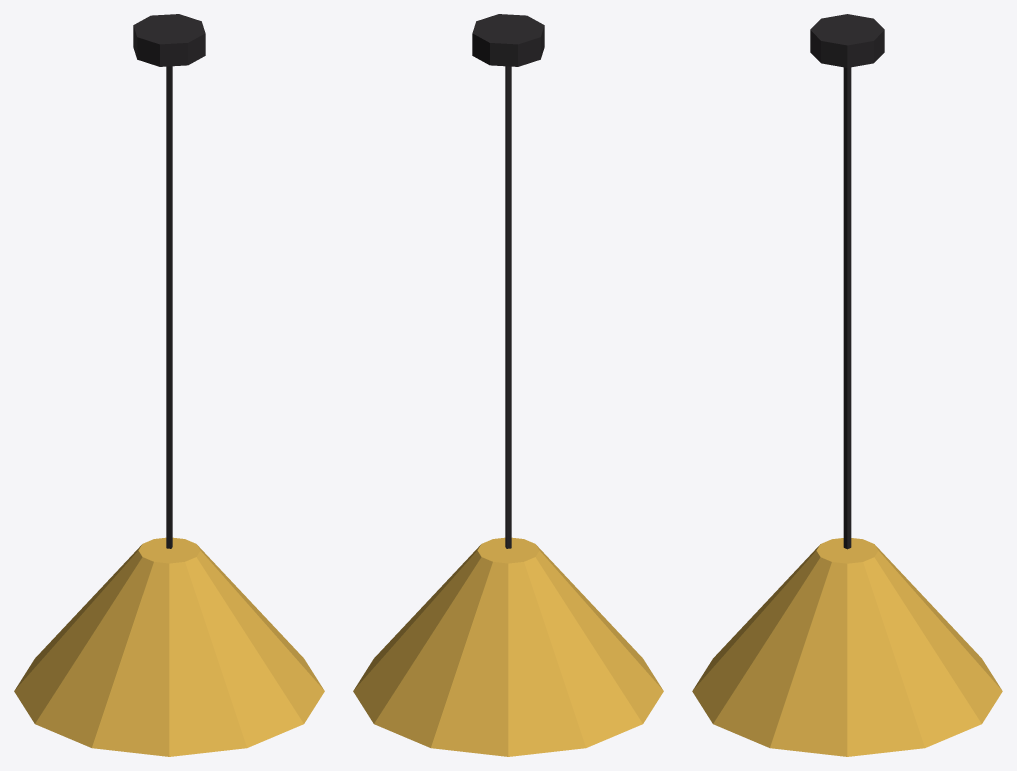
The model's file is pendant_lamp.glb.
3 renders of one model, left to right at view 1: azimuth 30°, elevation 25°; view 2: azimuth 150°, elevation 25°; view 3: azimuth 270°, elevation 25°, orthographic.
Visible parts, largest first — view 1: pendant_lamp; view 2: pendant_lamp; view 3: pendant_lamp.
Part boxes in pixels (x1,y1,x2,y2): pendant_lamp: (14, 14, 324, 756); pendant_lamp: (353, 14, 663, 756); pendant_lamp: (692, 14, 1002, 756).
Size of the model in its own units: 0.5 by 1.21 by 0.5.
